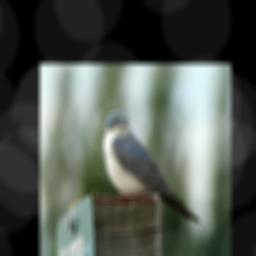Swallow: (103, 111, 201, 225)
